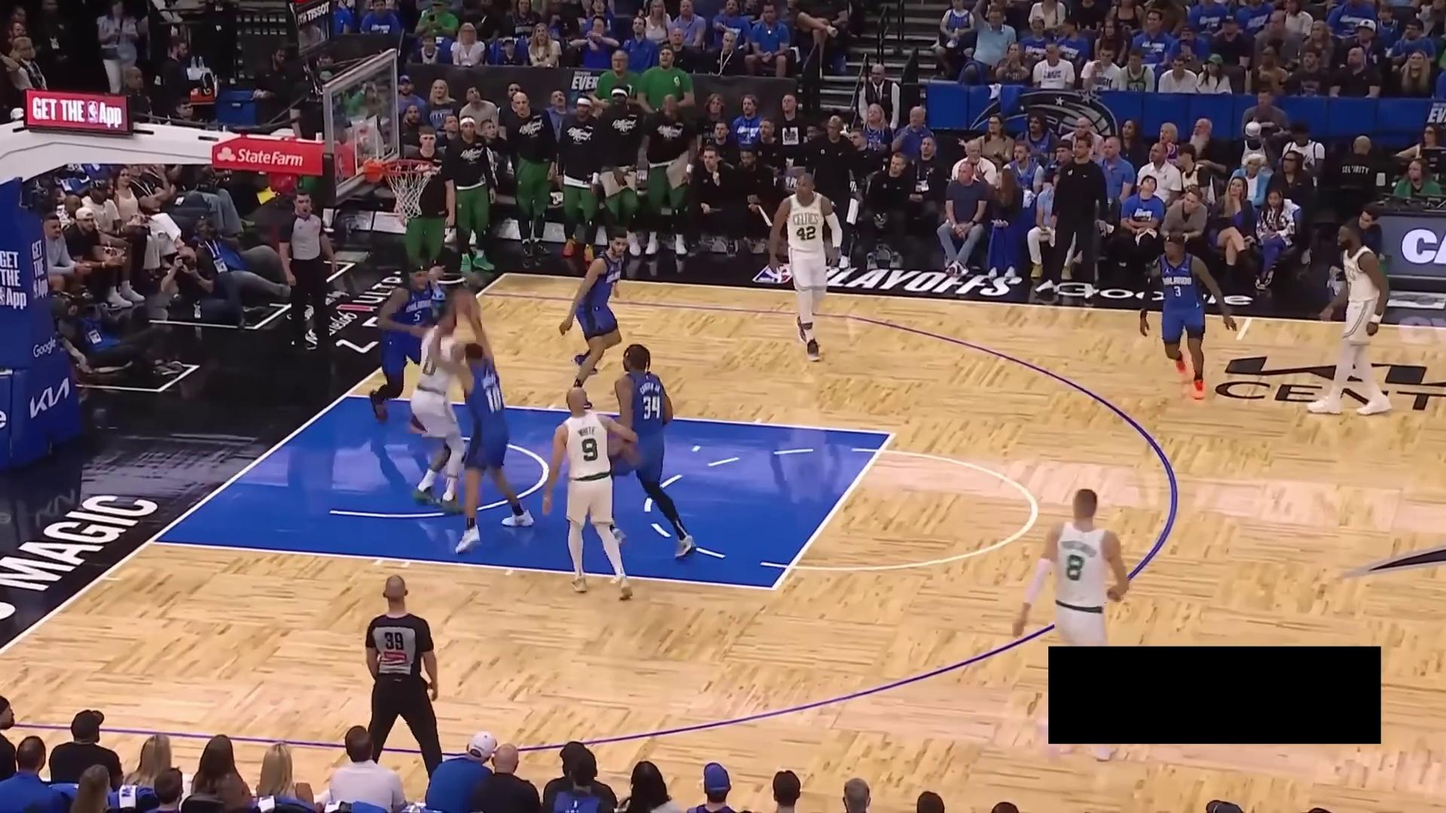ball: (449, 286, 479, 316)
number: (640, 392, 662, 420), (580, 436, 600, 465), (1065, 553, 1085, 581), (422, 351, 441, 377), (486, 385, 502, 413), (796, 226, 816, 241), (413, 309, 422, 323), (1173, 285, 1182, 297)
player: (1011, 482, 1133, 761), (541, 383, 641, 602), (610, 339, 702, 564), (1304, 219, 1395, 418), (1136, 230, 1239, 396), (765, 168, 844, 363), (367, 257, 453, 431), (557, 224, 634, 410)
player-in-possession: (403, 283, 490, 515)
player-shot-block: (419, 310, 538, 554)
referee: (362, 571, 446, 780), (276, 187, 347, 356)
rim: (382, 157, 436, 177)
